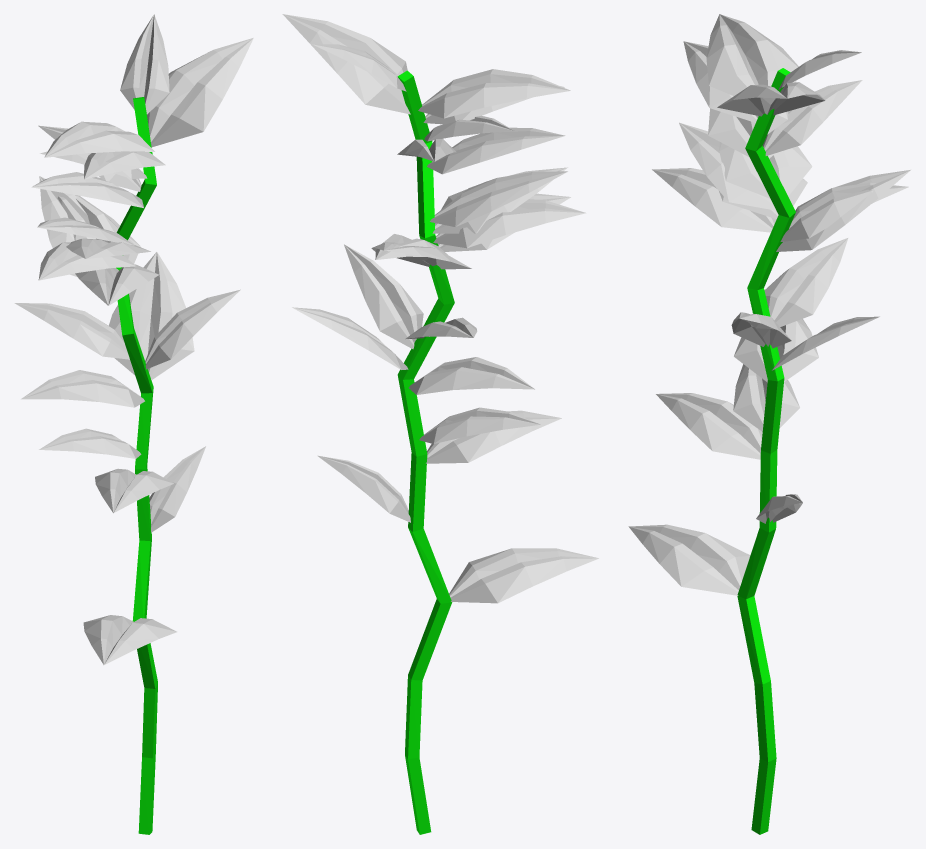
File: grasBig_1.fbx
3 views of the same model, side by side, from view 1: azimuth 30°, elevation 25°; view 2: azimuth 150°, elevation 25°; view 3: azimuth 270°, elevation 25° (orthographic). The views are drawn at different scales.
Parts seen in each view (by area): view 1: quickmaterial1; view 2: quickmaterial1; view 3: quickmaterial1.
Part boxes in pixels (x1,y1,x2,y2): quickmaterial1: (14,14,253,834); quickmaterial1: (282,14,598,834); quickmaterial1: (628,14,910,834).
Size of the model in its own units: 0.3644 by 1.06 by 0.3372.
